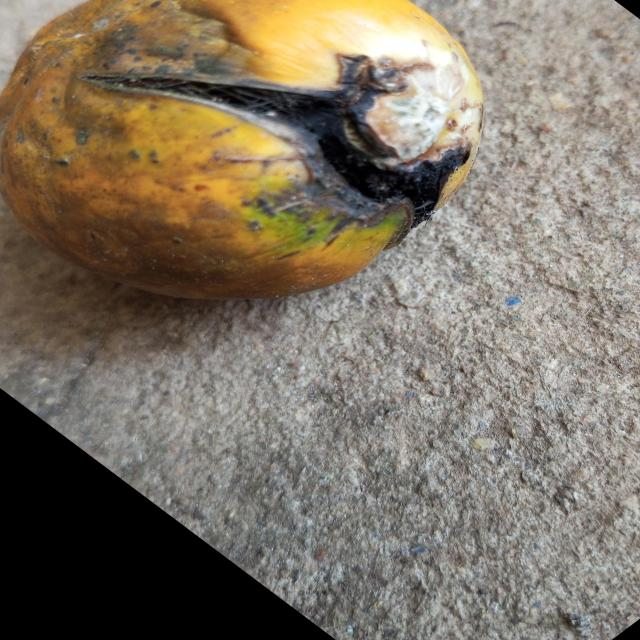damaged: (0, 0, 483, 298)
